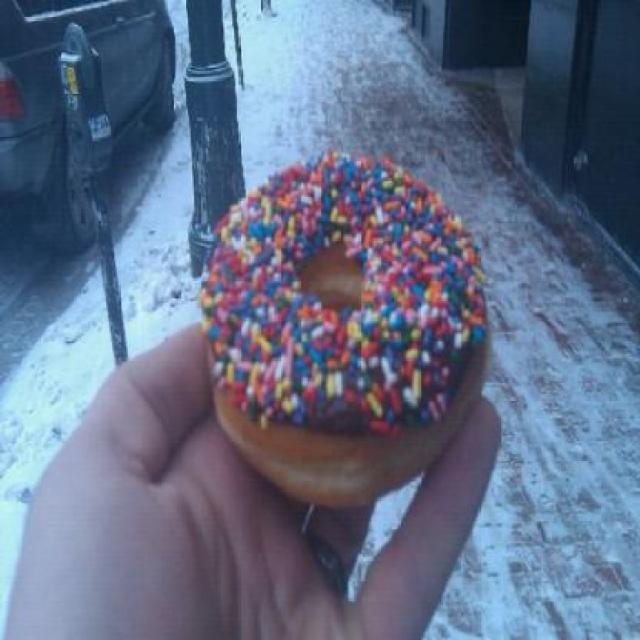Donuts: (174, 133, 531, 533)
